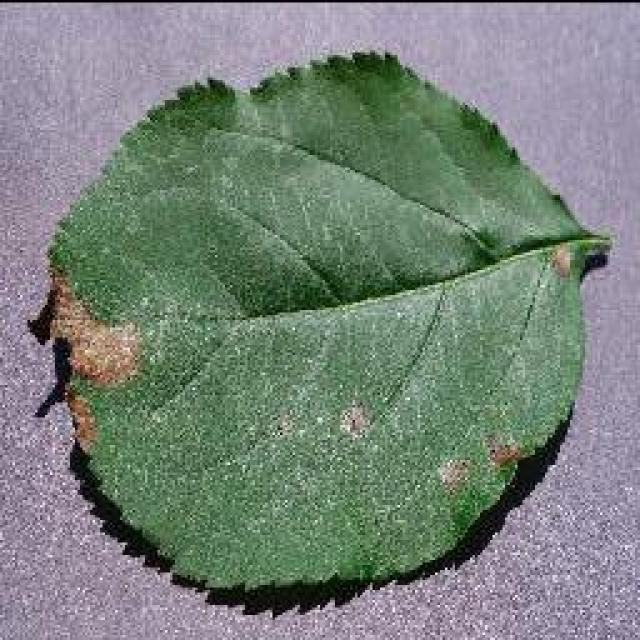apple black rot: (28, 47, 612, 615)
